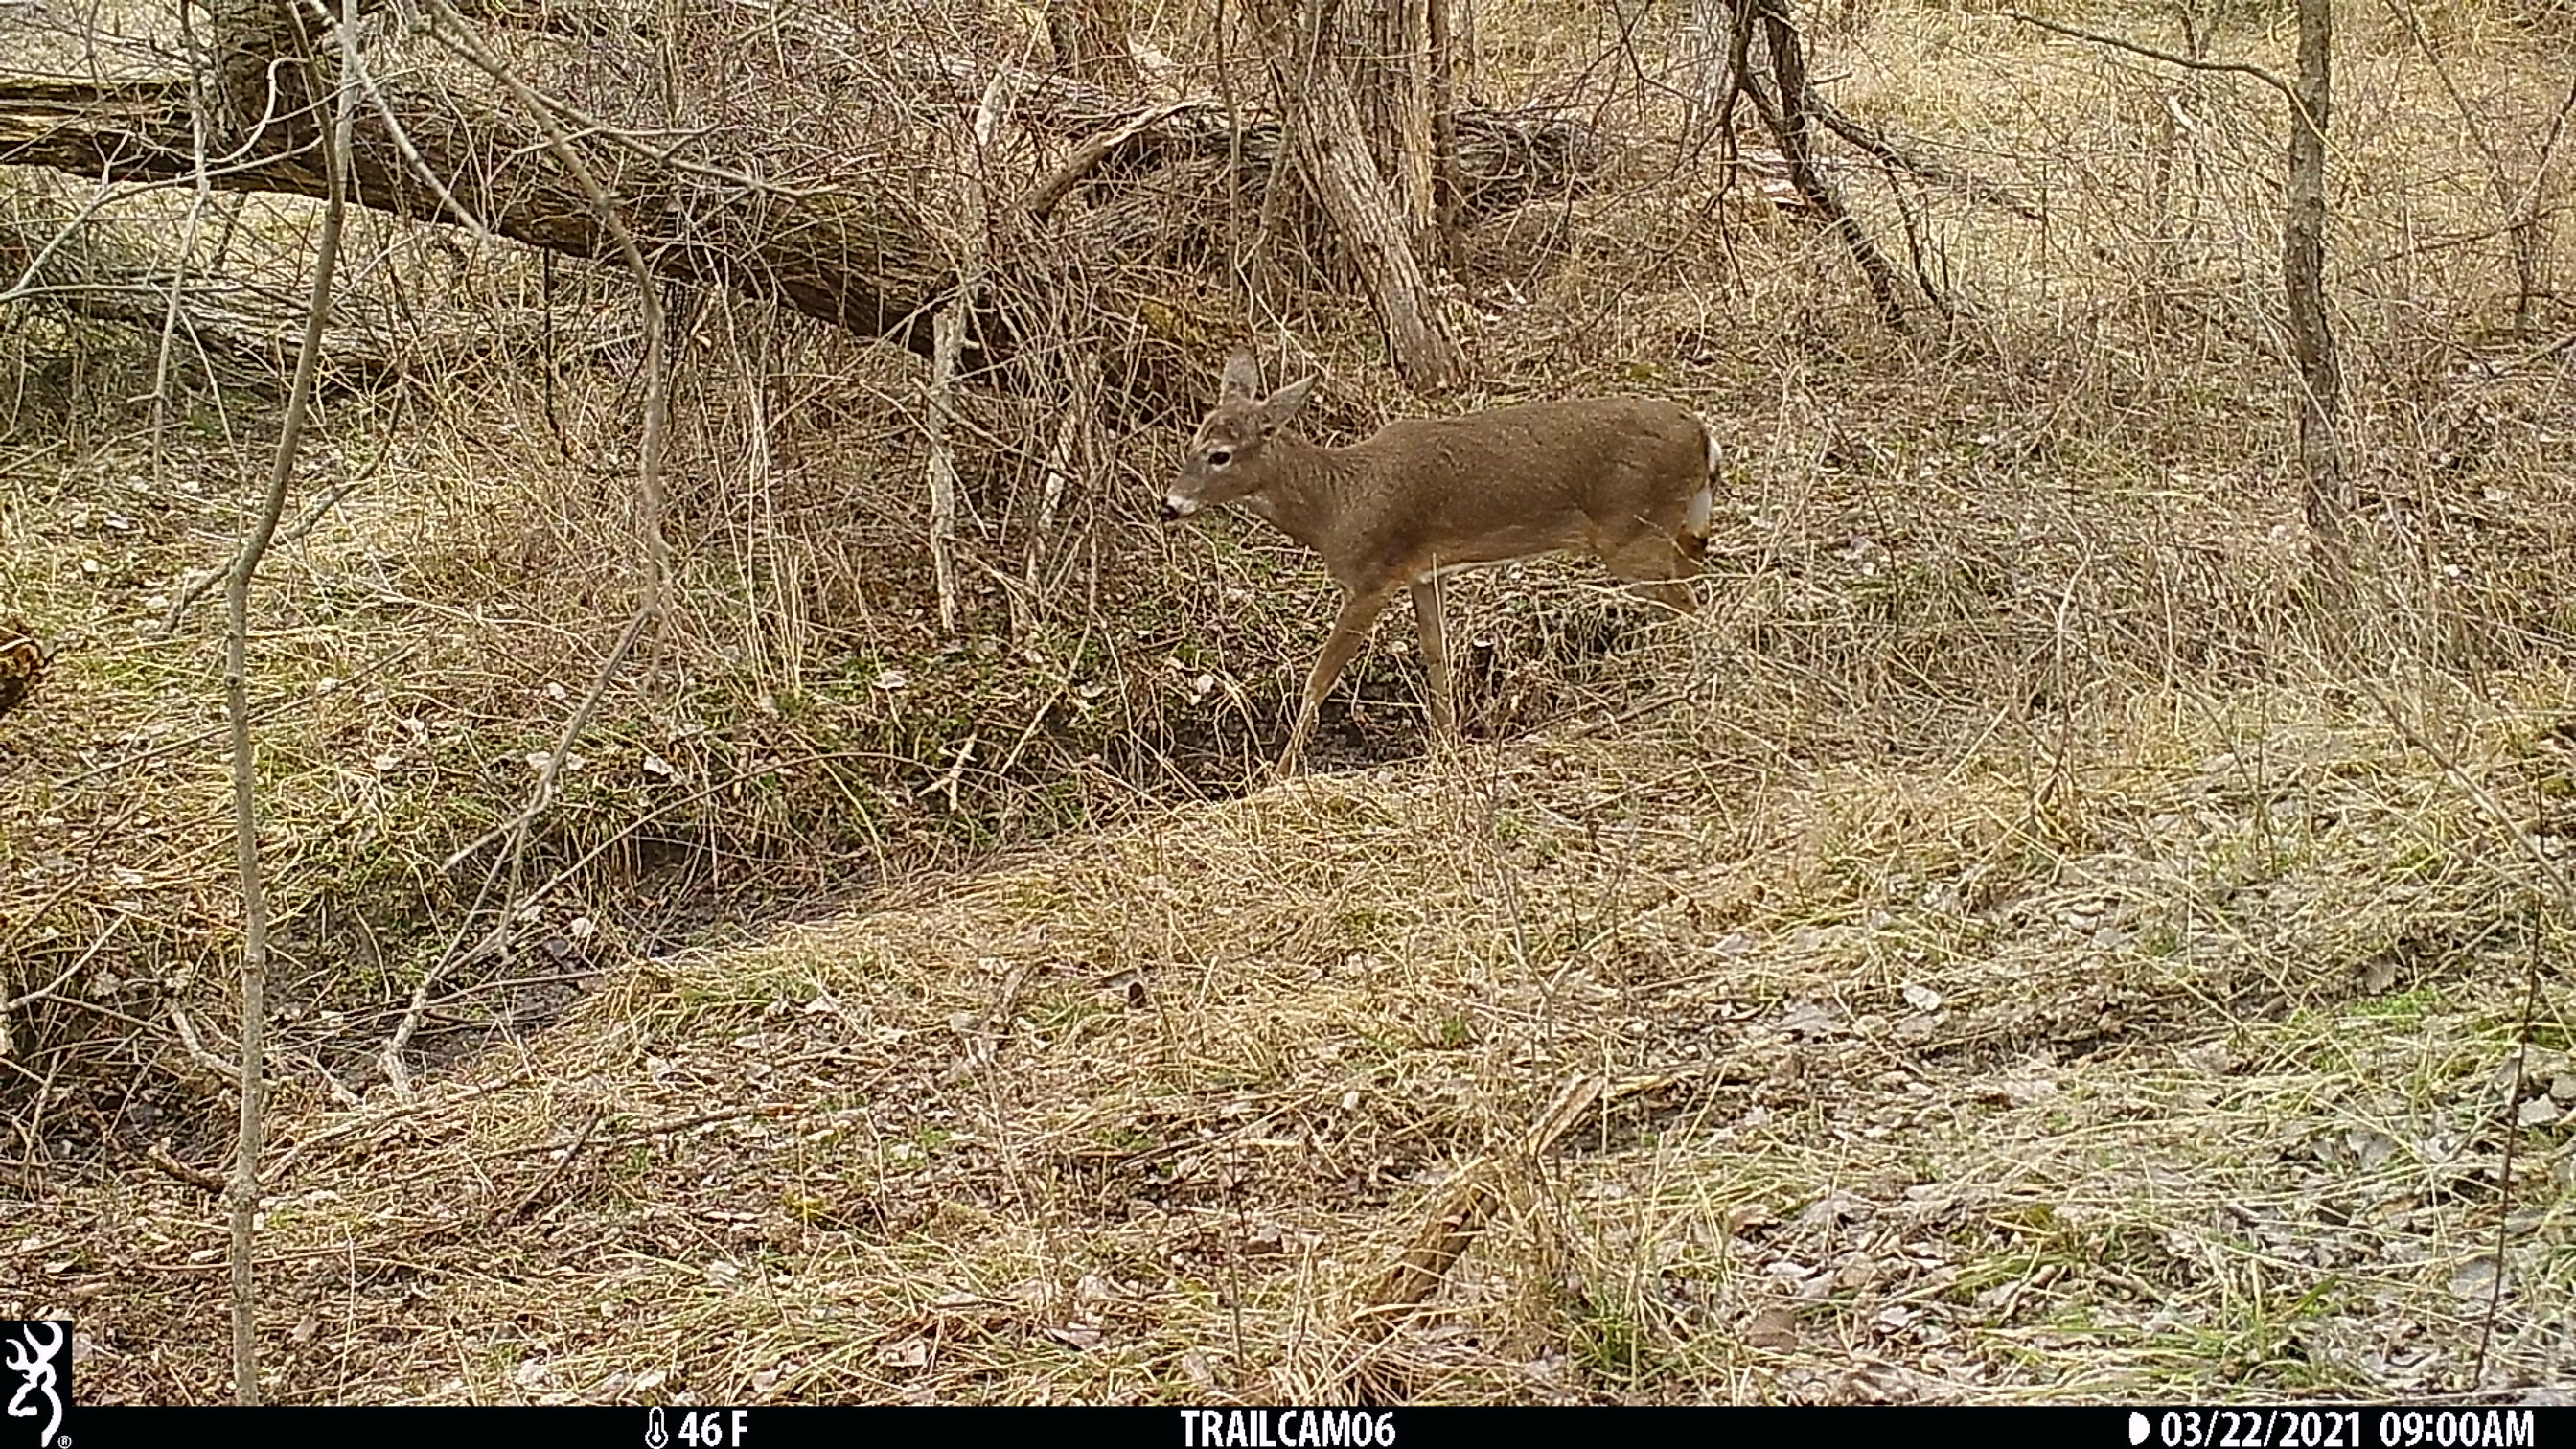DeerDoe: (1157, 350, 1730, 731)
